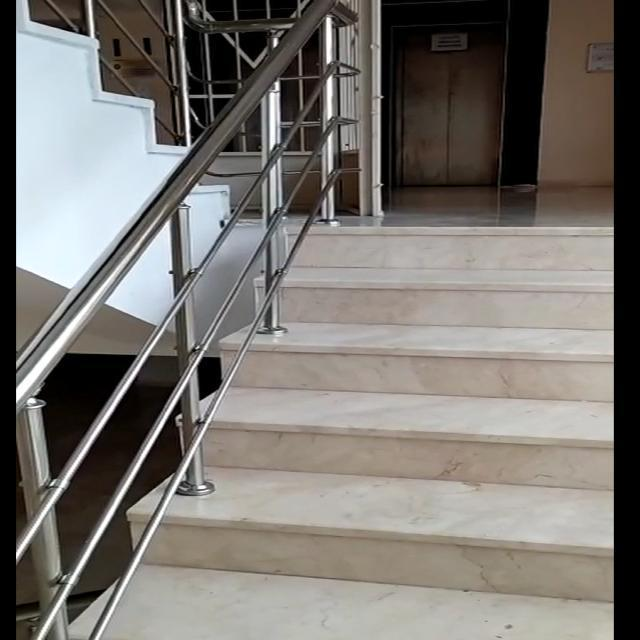stairs: (124, 222, 616, 603)
